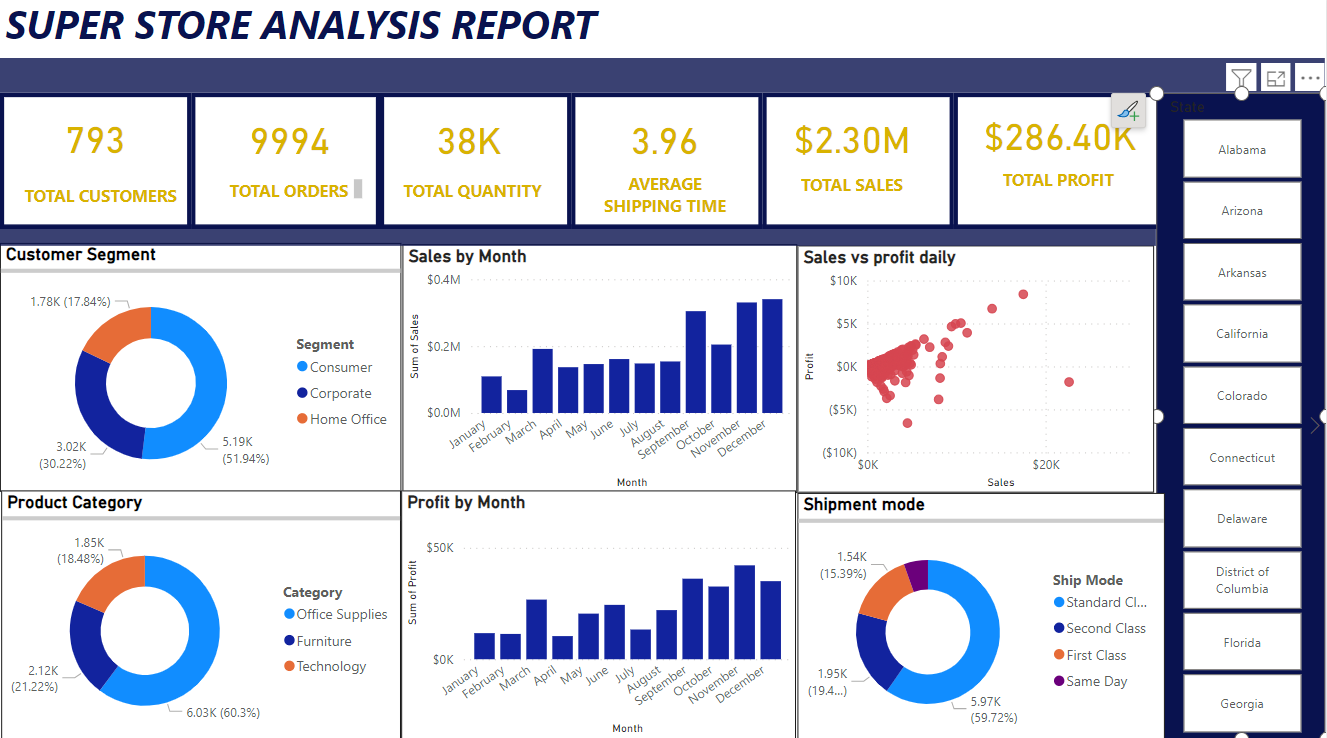

What the dashboard file says about the page in this screenshot:
{"tool":"powerbi","page":{"name":"Page 1","canvas":[1280,720],"ordinal":0},"visuals":[{"type":"textbox","box":[0,0,607.8,62.7],"z":0},{"type":"card","title":"Total Customers","fields":{"Values":["Count(Orders.Customer ID)"]},"box":[15.7,113.4,153.2,50.7],"z":1000},{"type":"card","fields":{"Values":["CountNonNull(Orders.Order ID)"]},"box":[217.1,114.6,125.4,50.7],"z":2000},{"type":"textbox","box":[9.6,179.7,174.9,31.4],"z":3000},{"type":"textbox","box":[211.1,174.9,143.5,30.2],"z":4000},{"type":"card","fields":{"Values":["Sum(Orders.Quantity)"]},"box":[387.1,104.9,131.5,68.7],"z":5000},{"type":"textbox","box":[378.7,174.9,154.4,39.8],"z":6000},{"type":"card","fields":{"Values":["Avg(Orders.Delivery timing)"]},"box":[578.9,114.6,125.4,50.7],"z":7000},{"type":"textbox","box":[569.2,167.6,144.7,55.5],"z":8000},{"type":"card","fields":{"Values":["Sum(Orders.Sales)"]},"box":[758.6,108.5,127.8,59.1],"z":9000},{"type":"textbox","box":[752.6,168.8,138.7,37.4],"z":10000},{"type":"shape","box":[0,62.7,1279.6,33.8],"z":11000},{"type":"shape","box":[0,96.5,184.5,131.5],"z":12000},{"type":"shape","box":[184.5,96.5,182.1,131.5],"z":13000},{"type":"shape","box":[366.6,96.5,184.5,131.5],"z":14000},{"type":"shape","box":[551.2,96.5,184.5,131.5],"z":15000},{"type":"shape","box":[735.7,96.5,184.5,131.5],"z":16000},{"type":"card","fields":{"Values":["Sum(Orders.Profit)"]},"box":[933.5,106.1,179.7,59.1],"z":17000},{"type":"shape","box":[920.2,96.5,203.8,131.5],"z":18000},{"type":"textbox","box":[931.1,164,184.5,41],"z":19000},{"type":"slicer","fields":{"Values":["Orders.State"]},"box":[1115.6,96.5,164,623.5],"z":20000},{"type":"donutChart","title":"Customer Segment","fields":{"Category":["Orders.Segment"],"Y":["CountNonNull(Orders.Customer Name)"]},"box":[0,241.2,387.1,240],"z":21000},{"type":"donutChart","title":"Product Category","fields":{"Y":["CountNonNull(Orders.Product Name)"],"Category":["Orders.Category"]},"box":[1.2,480,385.9,240],"z":22000},{"type":"clusteredColumnChart","title":"Sales by Month","fields":{"Y":["Sum(Orders.Sales)"],"Category":["Orders.Delivery date.Variation.Date Hierarchy.Month"]},"box":[388.3,242.4,381.1,240],"z":23000},{"type":"clusteredColumnChart","title":"Profit by Month","fields":{"Category":["Orders.Delivery date.Variation.Date Hierarchy.Month"],"Y":["Sum(Orders.Profit)"]},"box":[387.1,480,381.1,240],"z":24000},{"type":"scatterChart","title":"Sales vs profit daily","fields":{"X":["Orders.Sales"],"Y":["Orders.Profit"]},"box":[769.4,243.6,343.7,238.8],"z":24001},{"type":"shape","box":[0,223.1,1115.6,20.5],"z":24002},{"type":"donutChart","title":"Shipment mode","fields":{"Y":["CountNonNull(Orders.Product Name)"],"Category":["Orders.Ship Mode"]},"box":[769.4,482.4,354.6,237.6],"z":24003}]}

Visuals, with their boxes in screenshot pixels (x1, y1, x2, y2):
textbox: <box>0,0,624,55</box>
"Total Customers" card: <box>3,109,164,162</box>
card - CountNonNull(Orders.Order ID): <box>214,110,346,163</box>
textbox: <box>0,178,180,211</box>
textbox: <box>208,173,359,205</box>
card - Sum(Orders.Quantity): <box>393,100,531,172</box>
textbox: <box>384,173,546,215</box>
card - Avg(Orders.Delivery timing): <box>594,110,726,163</box>
textbox: <box>584,166,736,224</box>
card - Sum(Orders.Sales): <box>783,104,917,166</box>
textbox: <box>777,167,922,206</box>
shape: <box>0,55,1326,91</box>
shape: <box>0,91,180,229</box>
shape: <box>180,91,371,229</box>
shape: <box>371,91,565,229</box>
shape: <box>565,91,759,229</box>
shape: <box>759,91,953,229</box>
card - Sum(Orders.Profit): <box>966,101,1155,163</box>
shape: <box>953,91,1167,229</box>
textbox: <box>964,162,1158,205</box>
slicer - Orders.State: <box>1158,91,1326,737</box>
"Customer Segment" donutChart: <box>0,243,393,495</box>
"Product Category" donutChart: <box>0,494,393,737</box>
"Sales by Month" clusteredColumnChart: <box>394,244,794,496</box>
"Profit by Month" clusteredColumnChart: <box>393,494,793,737</box>
"Sales vs profit daily" scatterChart: <box>794,245,1155,496</box>
shape: <box>0,224,1158,245</box>
"Shipment mode" donutChart: <box>794,496,1167,737</box>
